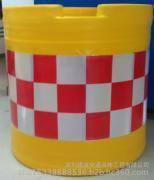sign: (1, 3, 153, 175)
